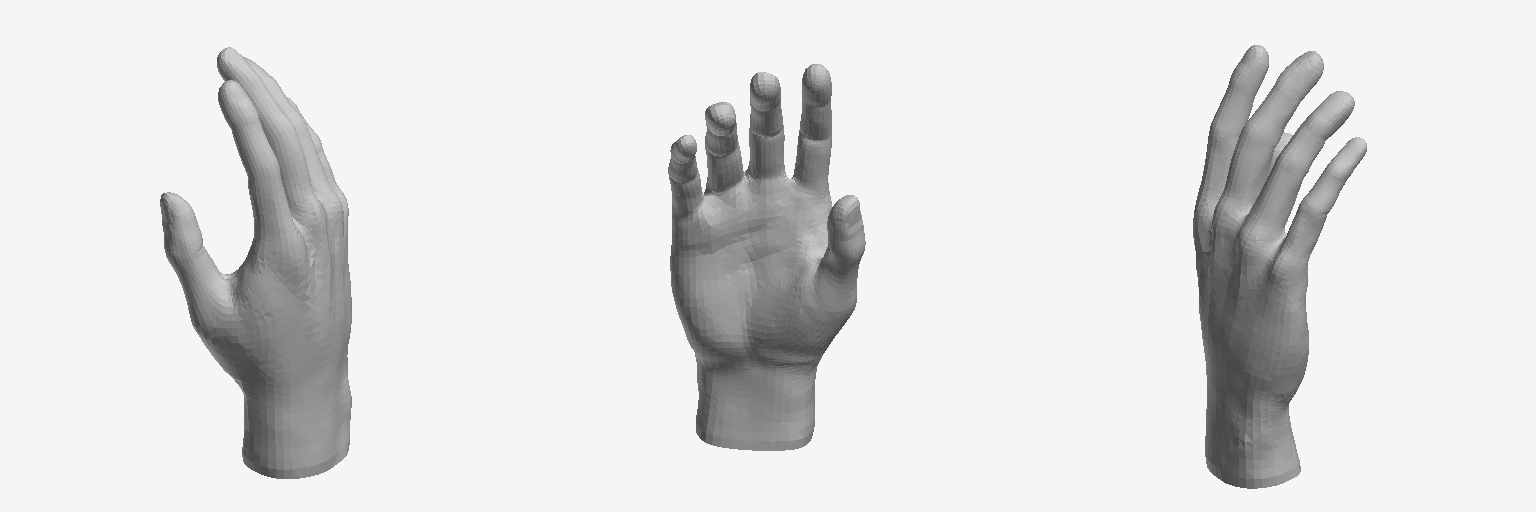
Rendered from hand.obj.
The picture shows the model from 3 angles: view 1: azimuth 30°, elevation 25°; view 2: azimuth 150°, elevation 25°; view 3: azimuth 270°, elevation 25°; orthographic projection.
Parts seen in each view (by area): view 1: Hand_3D.001_Plane.002; view 2: Hand_3D.001_Plane.002; view 3: Hand_3D.001_Plane.002.
Boxes of the visible parts, x1,y1,x2,y2 form: Hand_3D.001_Plane.002: [160, 47, 351, 478]; Hand_3D.001_Plane.002: [668, 64, 865, 450]; Hand_3D.001_Plane.002: [1193, 45, 1366, 488].
Size of the model in its own units: 0.0905 by 0.1877 by 0.0746.